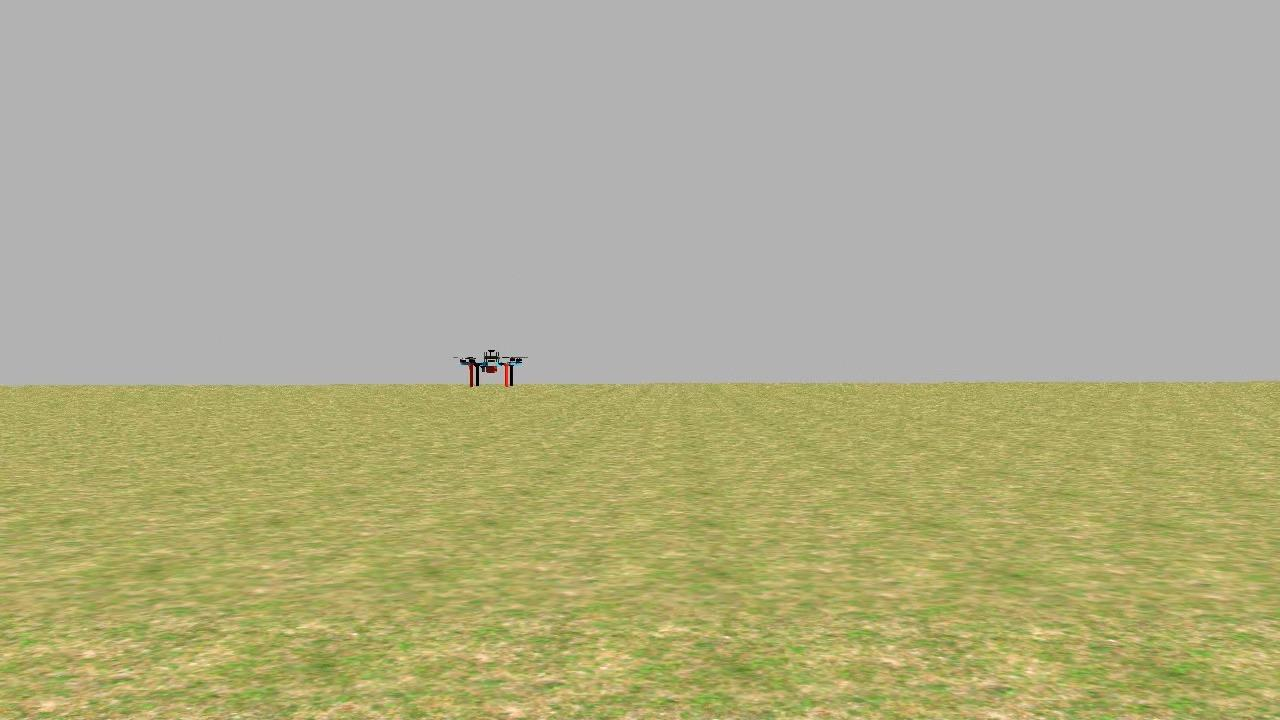UAV: (454, 340, 532, 388)
